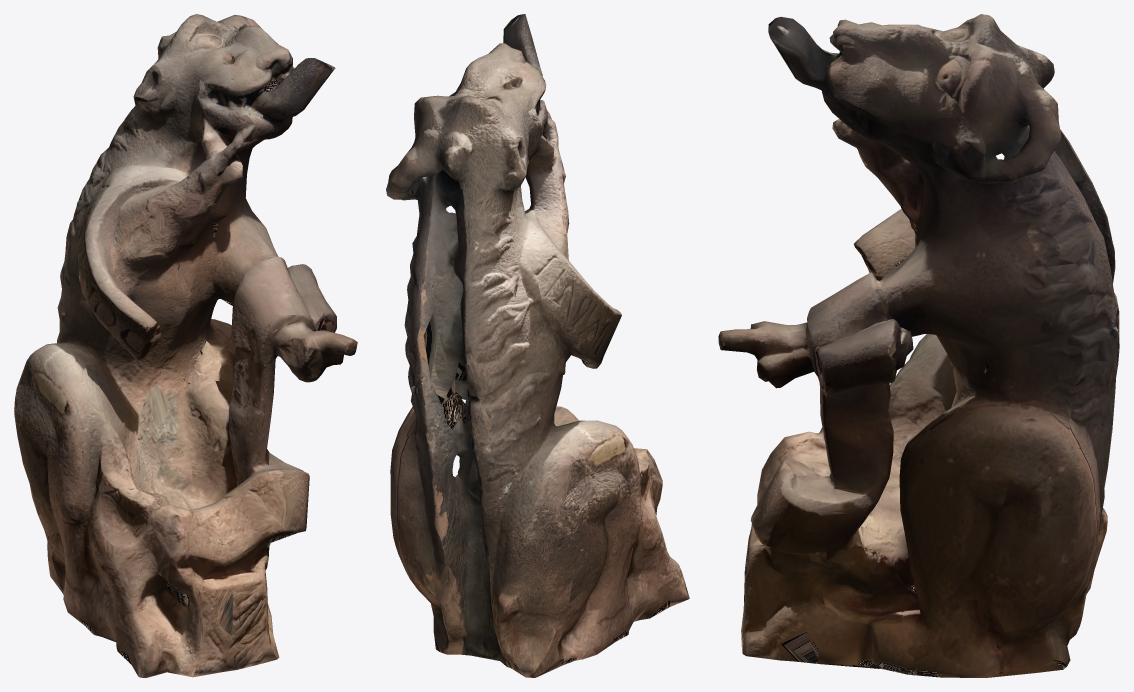
Rendered from 12_devilry.glb.
3 renders of one model, left to right at view 1: azimuth 30°, elevation 25°; view 2: azimuth 150°, elevation 25°; view 3: azimuth 270°, elevation 25°, orthographic. The views are drawn at different scales.
Visible parts, largest first — view 1: Mesh_0; view 2: Mesh_0; view 3: Mesh_0.
Part boxes in pixels (box(x1,y1,x2,y2)): Mesh_0: box(14, 14, 357, 677); Mesh_0: box(386, 14, 689, 677); Mesh_0: box(718, 14, 1119, 677).
Size of the model in its own units: 0.8522 by 2 by 1.08.
Materials: 6 (6 with a texture image).
